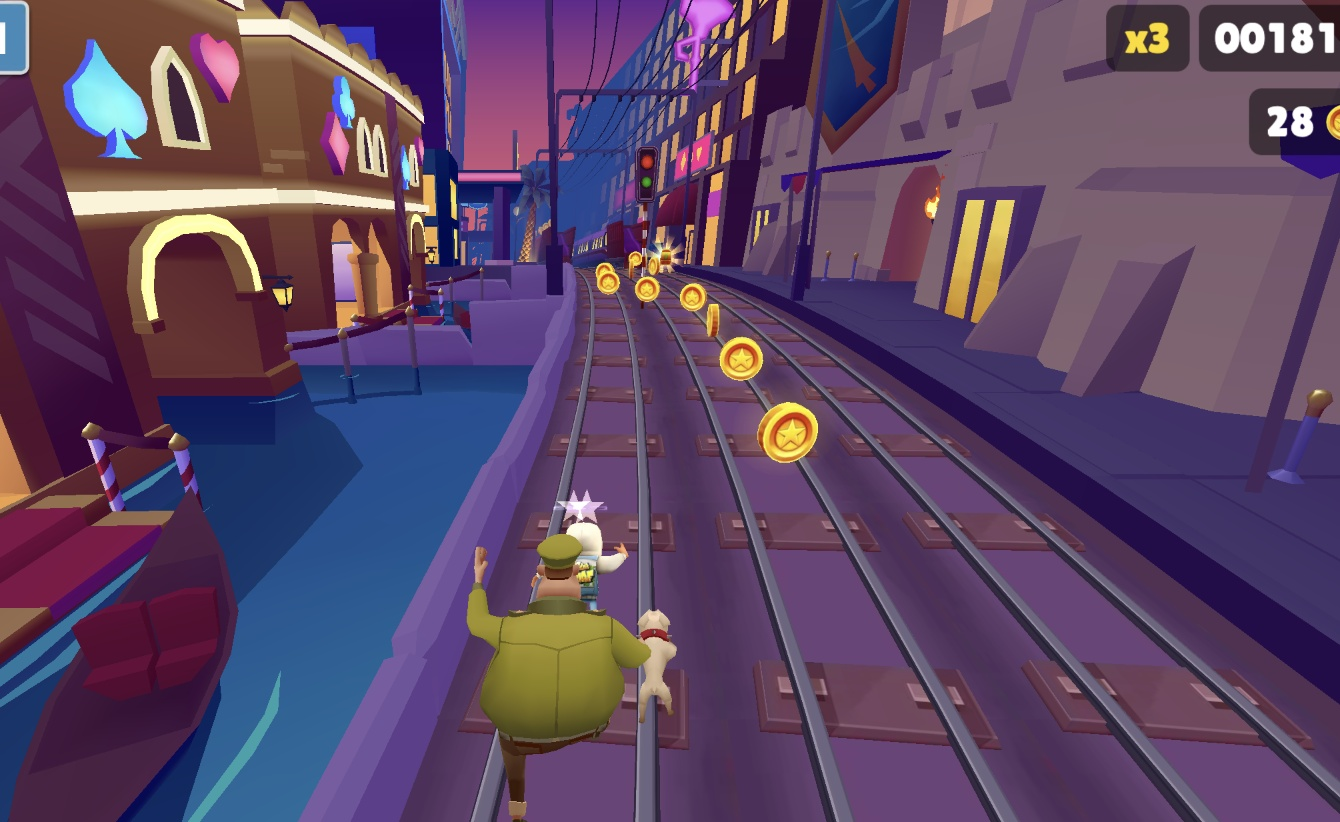train: (595, 219, 644, 270), (580, 225, 619, 262), (560, 231, 584, 268)
